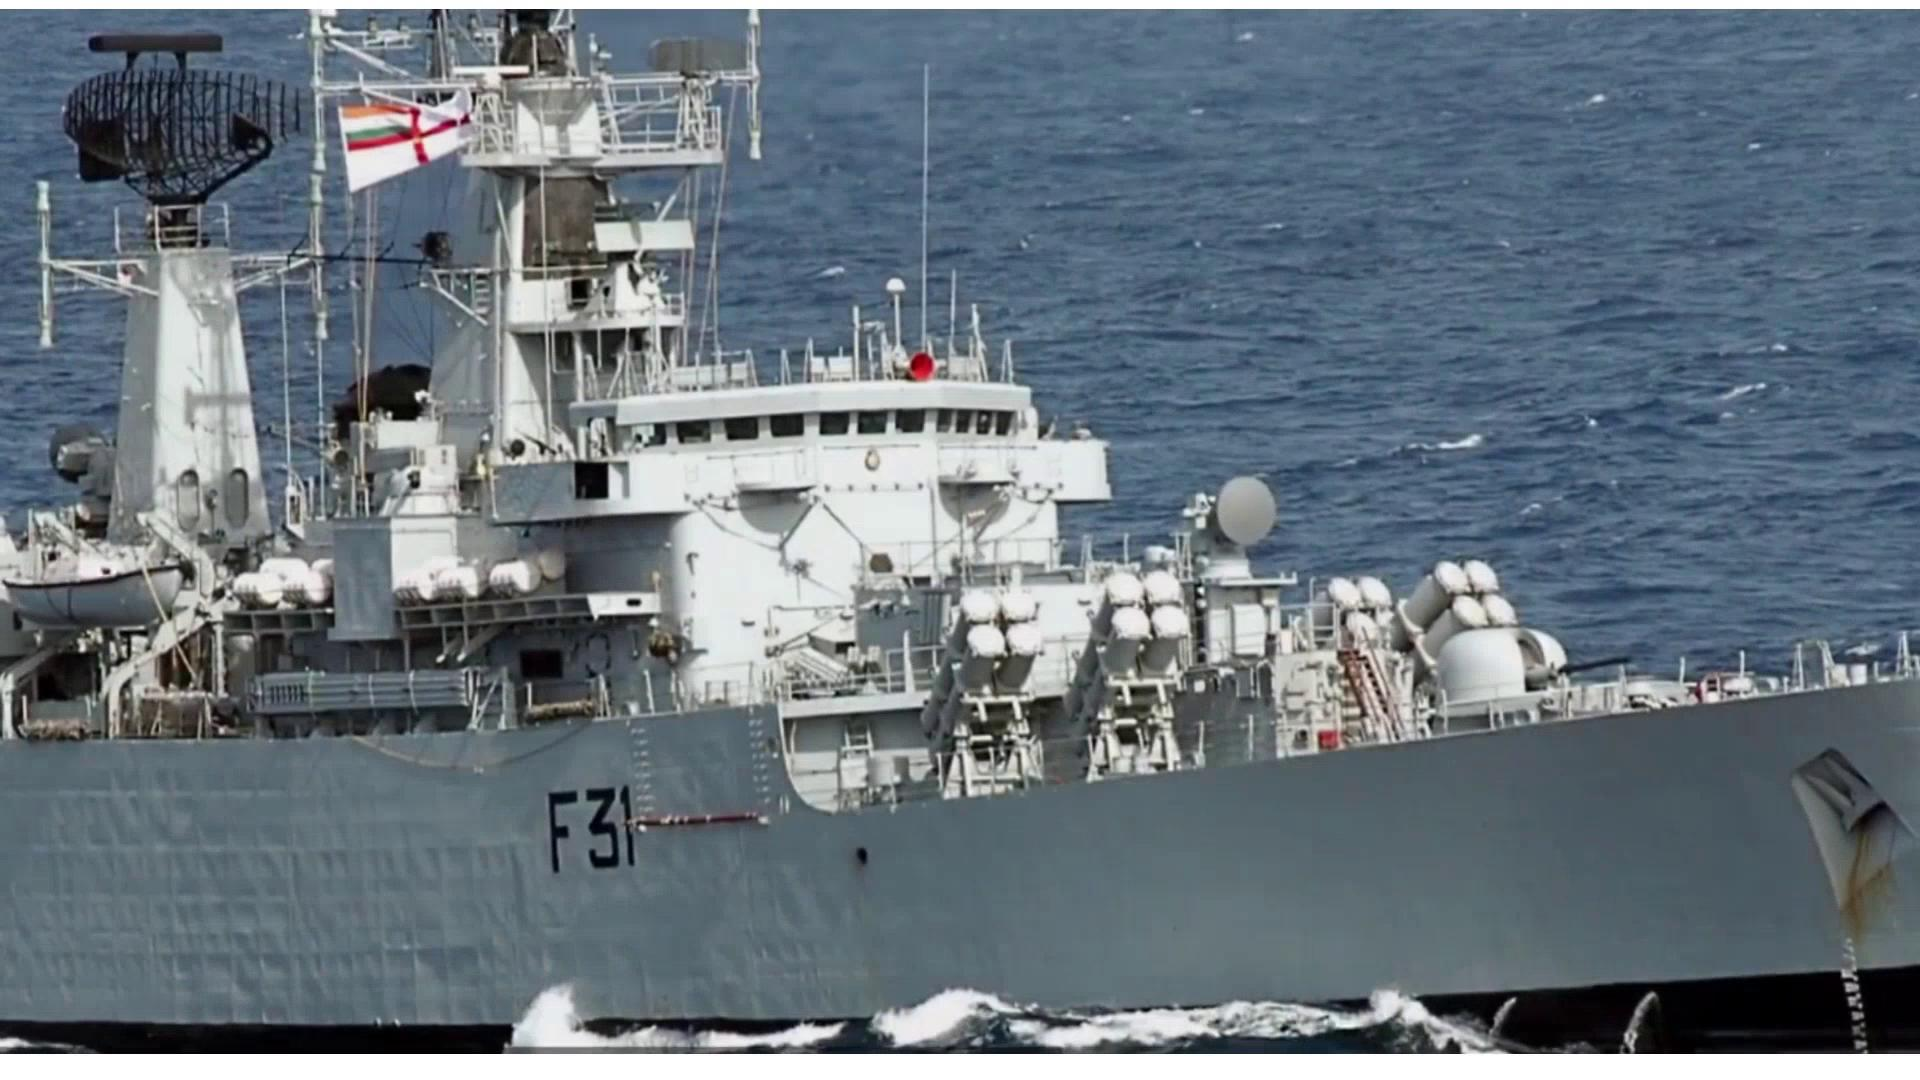OCR: (541, 781, 638, 881)
